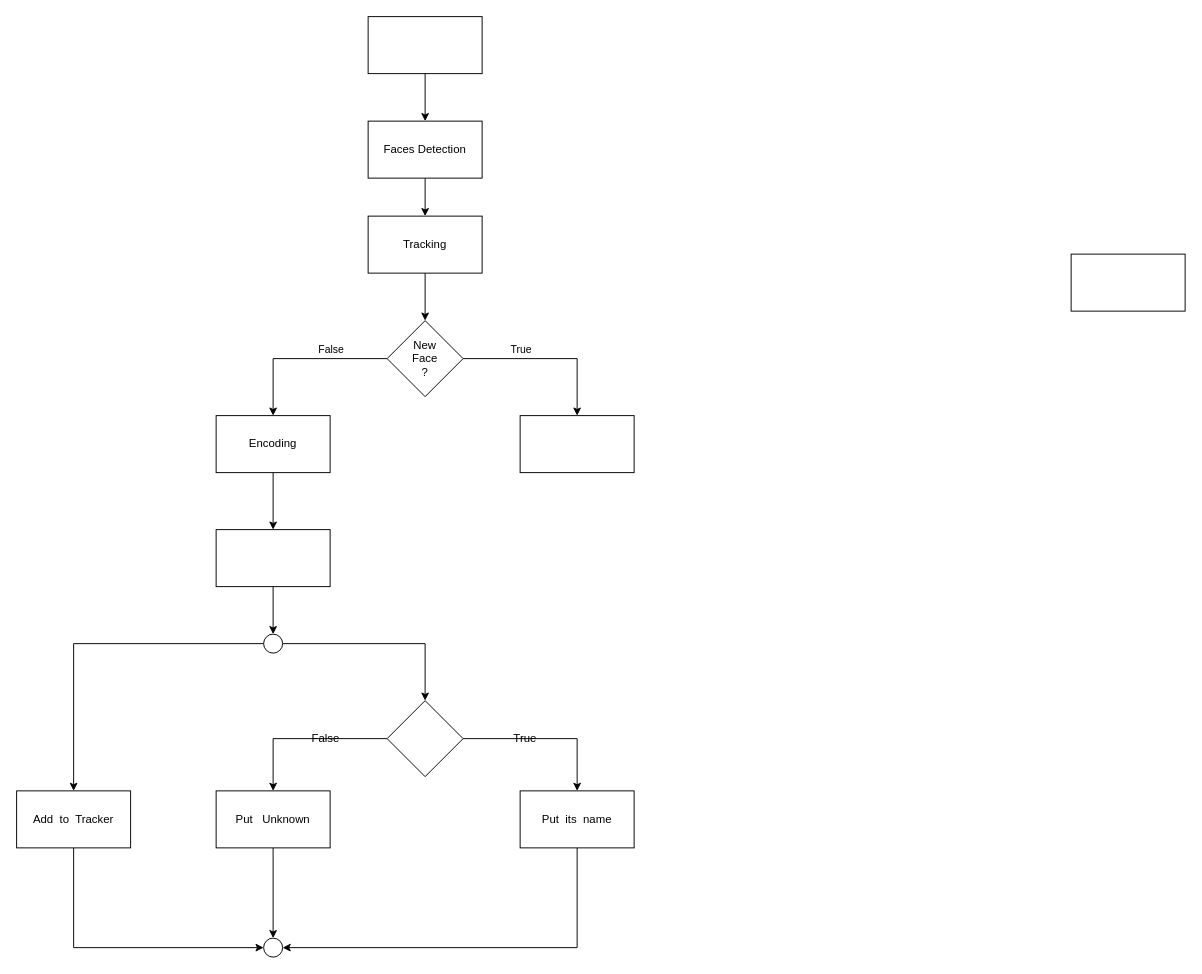
Some shapes in this 1202 by 974 pixel diagram are drawn without their labels. Each missing label, with the centre of its shape:
"Compare to Faces Data Base" belongs at (272,558).
"Follow" belongs at (576,444).
"FRAME" belongs at (424,45).
"known face ?" belongs at (424,738).
